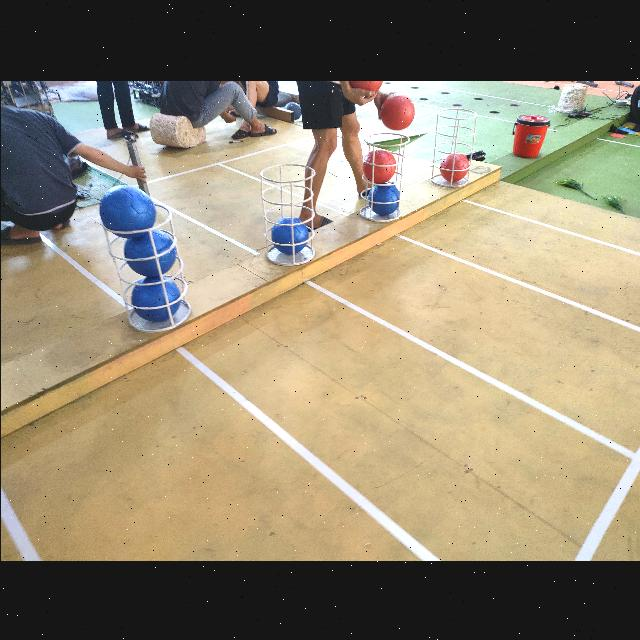B: (98, 186, 154, 236), (130, 277, 180, 321), (124, 233, 174, 275), (272, 217, 308, 253), (368, 183, 400, 214)
R: (360, 150, 396, 182), (438, 151, 468, 181)
